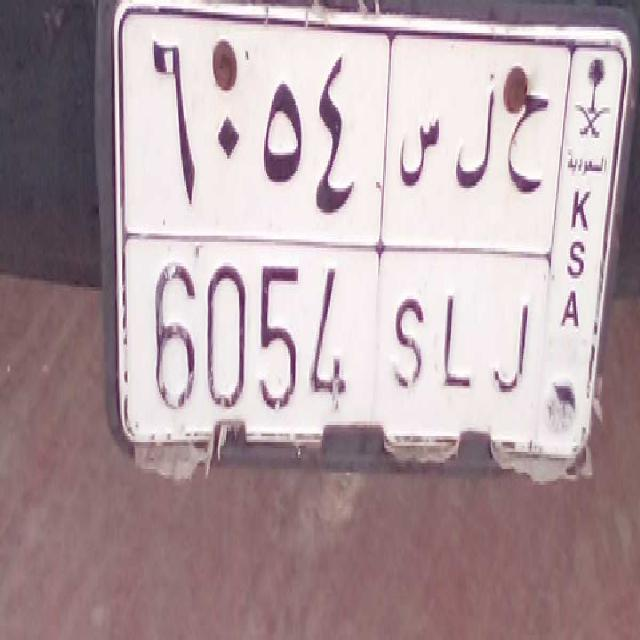license_plate: (121, 230, 548, 458)
